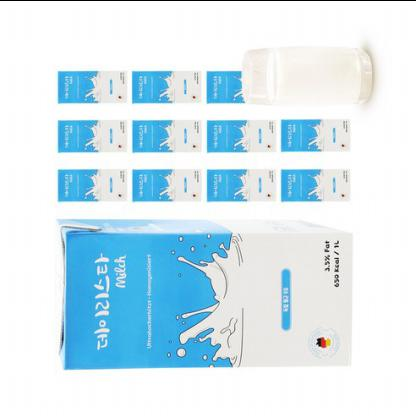tetra: (32, 210, 362, 380)
